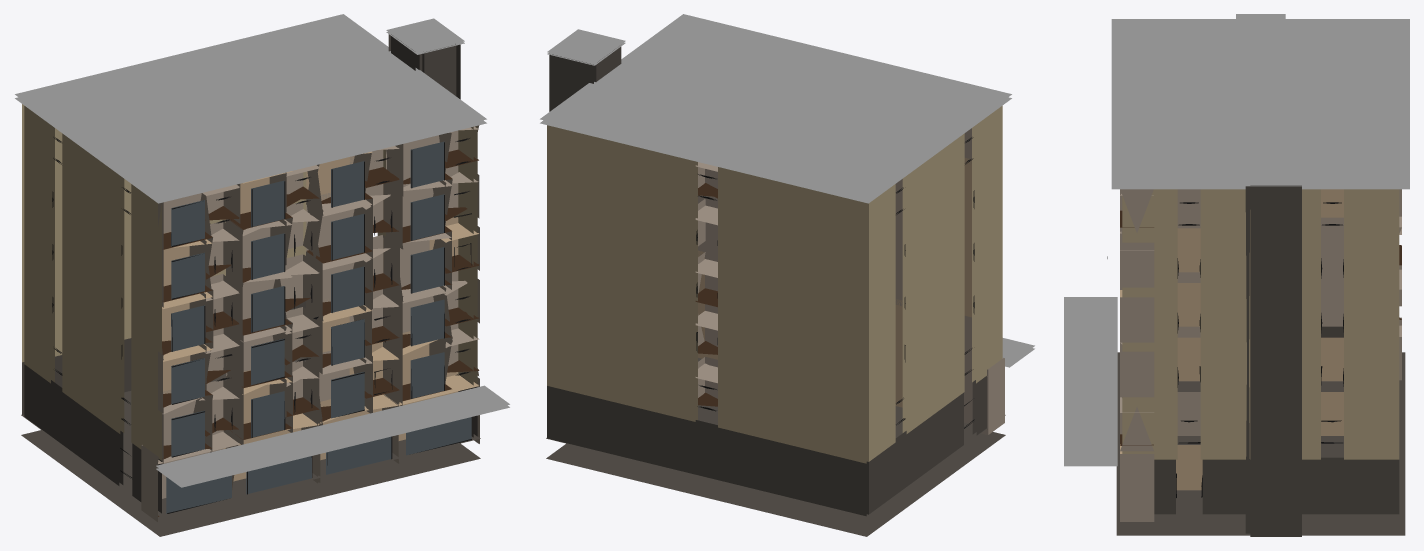
File: apartment_20x15_6_far.glb
3 renders of one model, left to right at view 1: azimuth 30°, elevation 25°; view 2: azimuth 150°, elevation 25°; view 3: azimuth 270°, elevation 25°, orthographic. The views are drawn at different scales.
Visible parts, largest first — view 1: apartment_20x15_6; view 2: apartment_20x15_6; view 3: apartment_20x15_6.
Boxes of the visible parts, bbox=[...] form: apartment_20x15_6: bbox=[15, 14, 509, 536]; apartment_20x15_6: bbox=[540, 14, 1034, 536]; apartment_20x15_6: bbox=[1064, 14, 1409, 536].
Bounding box in the file's own units: 23.2 × 22.35 × 18.1.
